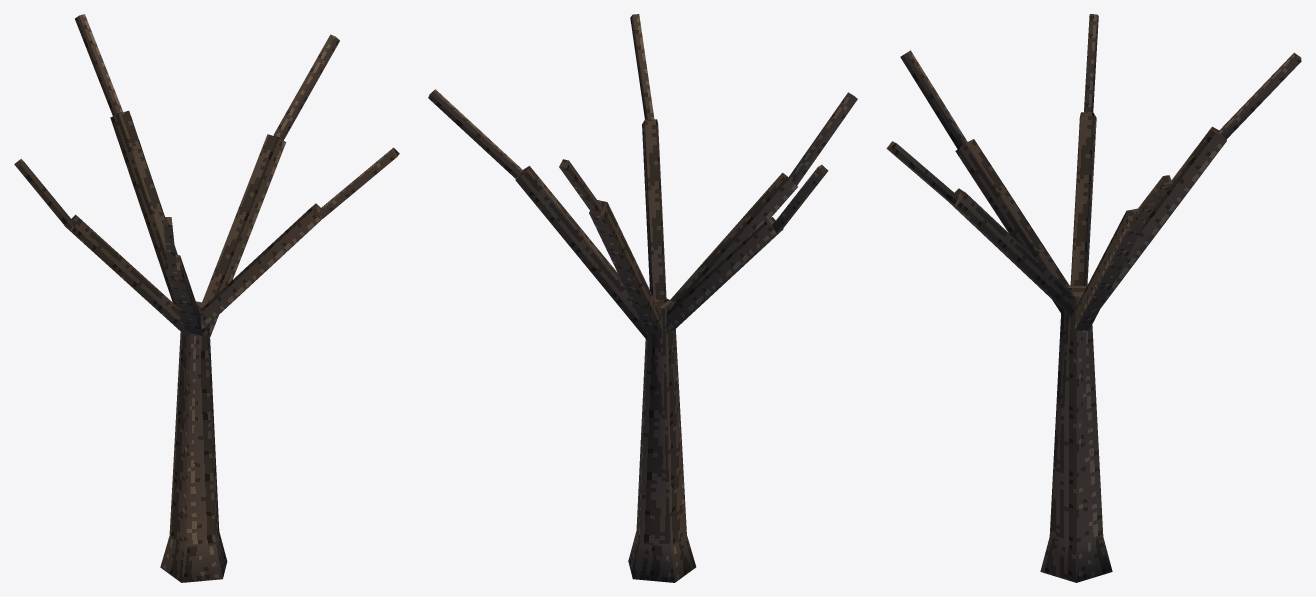
File: mnat.dead_tree.glb
3 views of the same model, side by side, from view 1: azimuth 30°, elevation 25°; view 2: azimuth 150°, elevation 25°; view 3: azimuth 270°, elevation 25° (orthographic). The views are drawn at different scales.
Visible parts, largest first — view 1: kit_trunk; view 2: kit_trunk; view 3: kit_trunk.
Boxes of the visible parts, x1,y1,x2,y2 form: kit_trunk: [14, 14, 399, 582]; kit_trunk: [428, 14, 857, 582]; kit_trunk: [886, 14, 1301, 582].
Size of the model in its own units: 4.64 by 5.96 by 4.42.
1 material, 1 textured.
